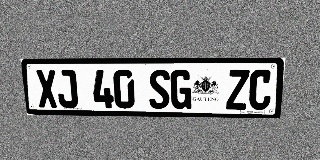0: (113, 70, 135, 109)
4: (92, 70, 114, 108)
C: (248, 70, 273, 110)
G: (171, 70, 192, 109)
J: (56, 70, 78, 108)
S: (149, 70, 170, 109)
X: (35, 70, 58, 108)
Z: (226, 70, 250, 110)
